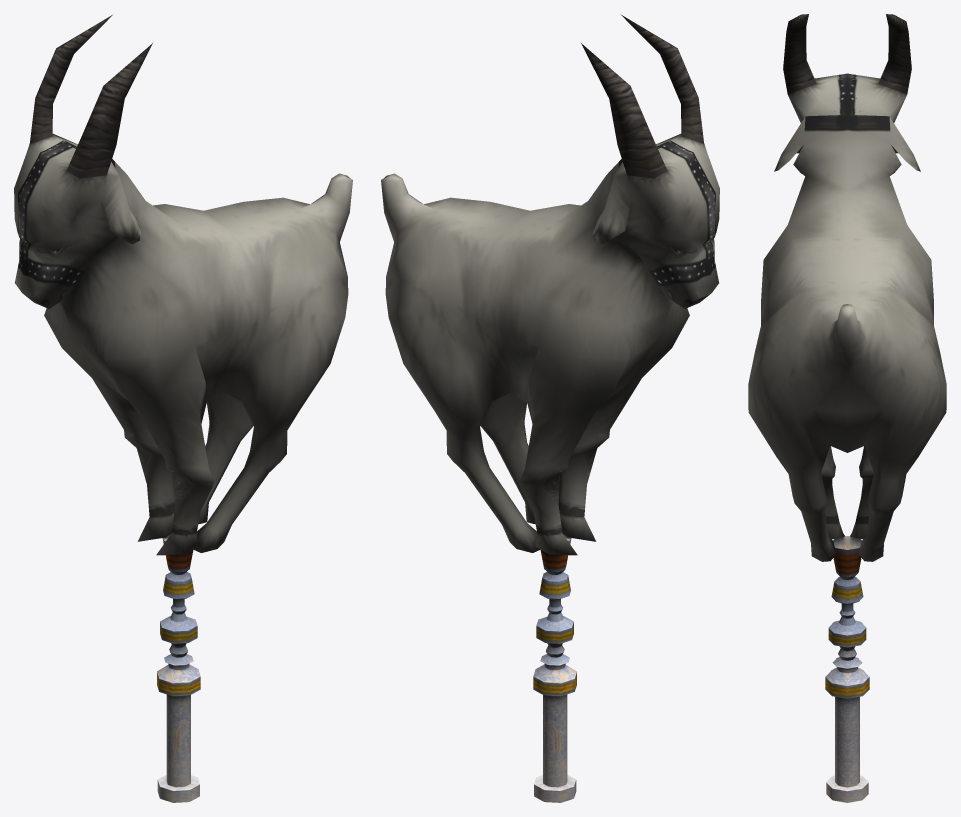
The model's file is Goat.FBX.
The picture shows the model from 3 angles, left to right: view 1: azimuth 30°, elevation 25°; view 2: azimuth 150°, elevation 25°; view 3: azimuth 270°, elevation 25°; orthographic projection. The views are drawn at different scales.
Parts seen in each view (by area): view 1: Goat_Septre; view 2: Goat_Septre; view 3: Goat_Septre.
Boxes of the visible parts, box(x1,y1,x2,y2) form: Goat_Septre: box(14, 15, 352, 802); Goat_Septre: box(381, 15, 719, 802); Goat_Septre: box(748, 14, 946, 802).
Bounding box in the file's own units: 45.65 × 102 × 24.08.
1 material, 1 textured.
